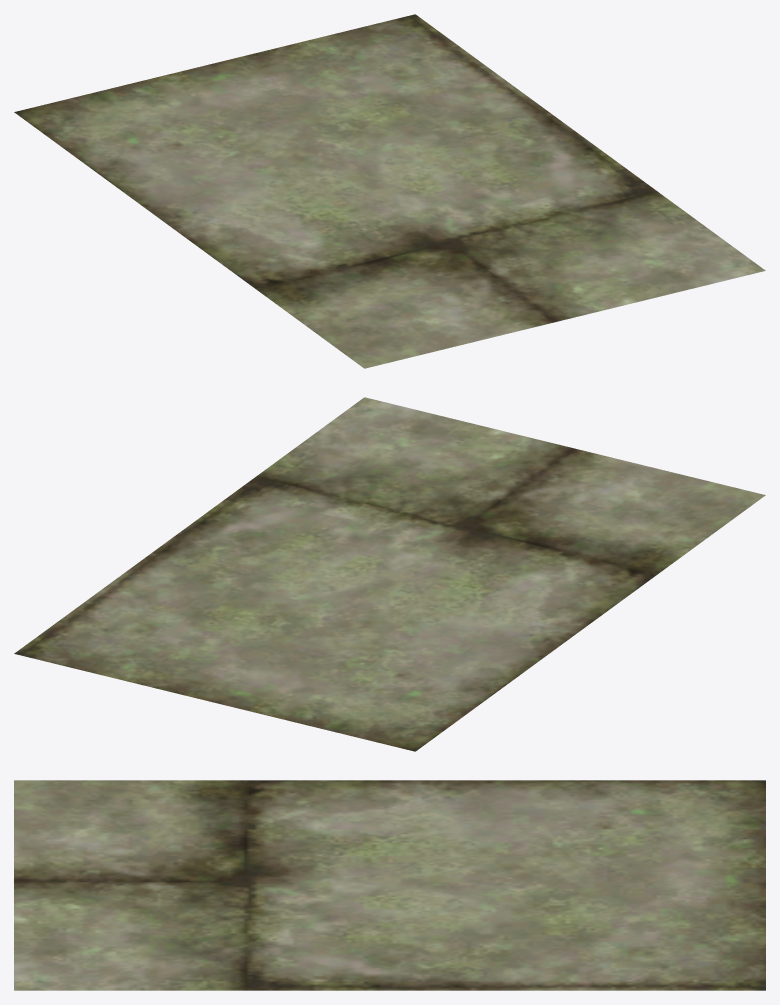
File: OVERHILL_A_01_LINE222.fbx
3 views of the same model, one above another, from view 1: azimuth 30°, elevation 25°; view 2: azimuth 150°, elevation 25°; view 3: azimuth 270°, elevation 25° (orthographic). The views are drawn at different scales.
Parts seen in each view (by area): view 1: OVERHILL_A_01_LINE222; view 2: OVERHILL_A_01_LINE222; view 3: OVERHILL_A_01_LINE222.
Boxes of the visible parts, x1,y1,x2,y2 form: OVERHILL_A_01_LINE222: (14,14,765,368); OVERHILL_A_01_LINE222: (14,397,765,751); OVERHILL_A_01_LINE222: (14,780,765,990).
Size of the model in its own units: 13224 by 0.0212 by 20000.
Materials: 1 (1 with a texture image).
